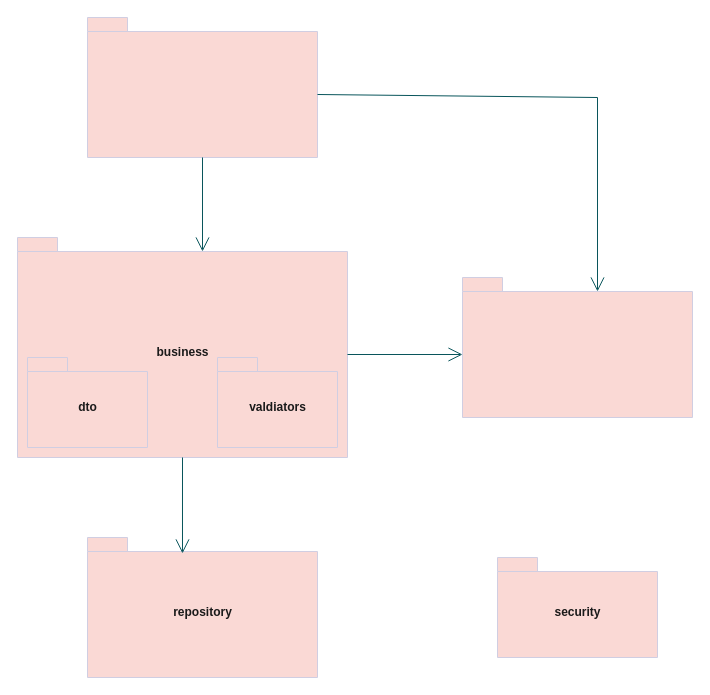
Image size: 710x695. Some labels were removed from this diagram. Here are the shapes that lost their labels. From the top down, the centre of each, then its label:
point 202,87: controller
point 577,347: model
